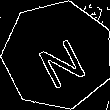N_NW: (28, 23, 87, 87)
